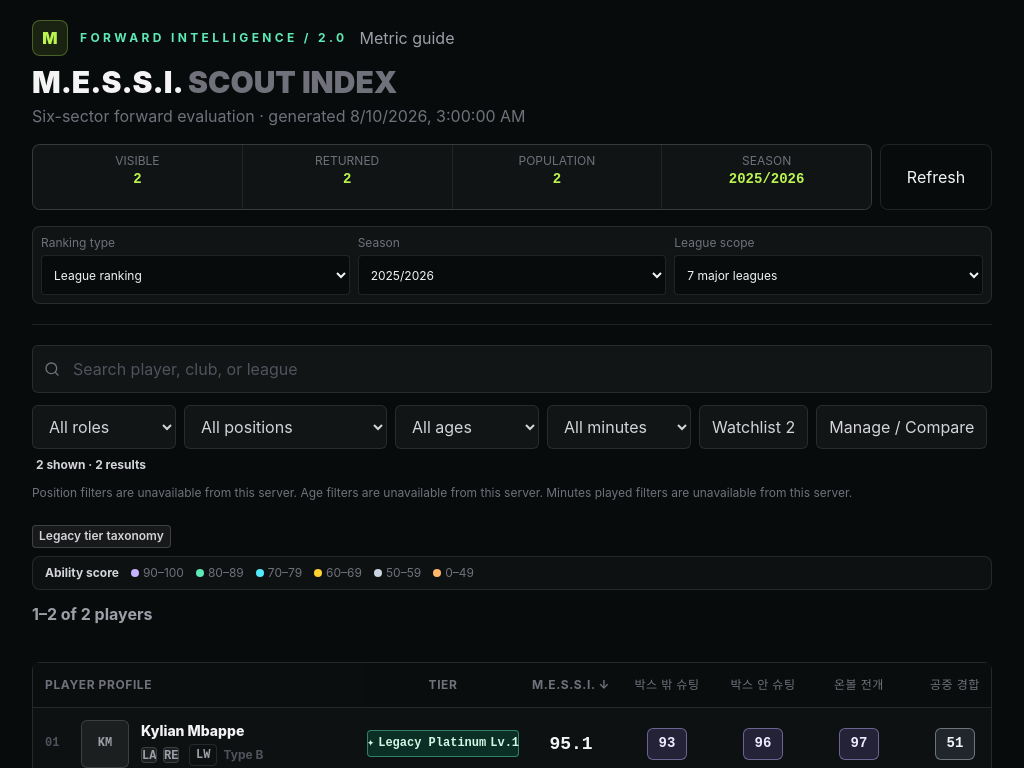
Scenario: watchlist data-quality batches › never posts a snapshot or legacy-partial row before it has an exact current profile
The image size is (1024, 768).
Click the button "Watchlist 2" at (754, 427), box [699,405,808,449]
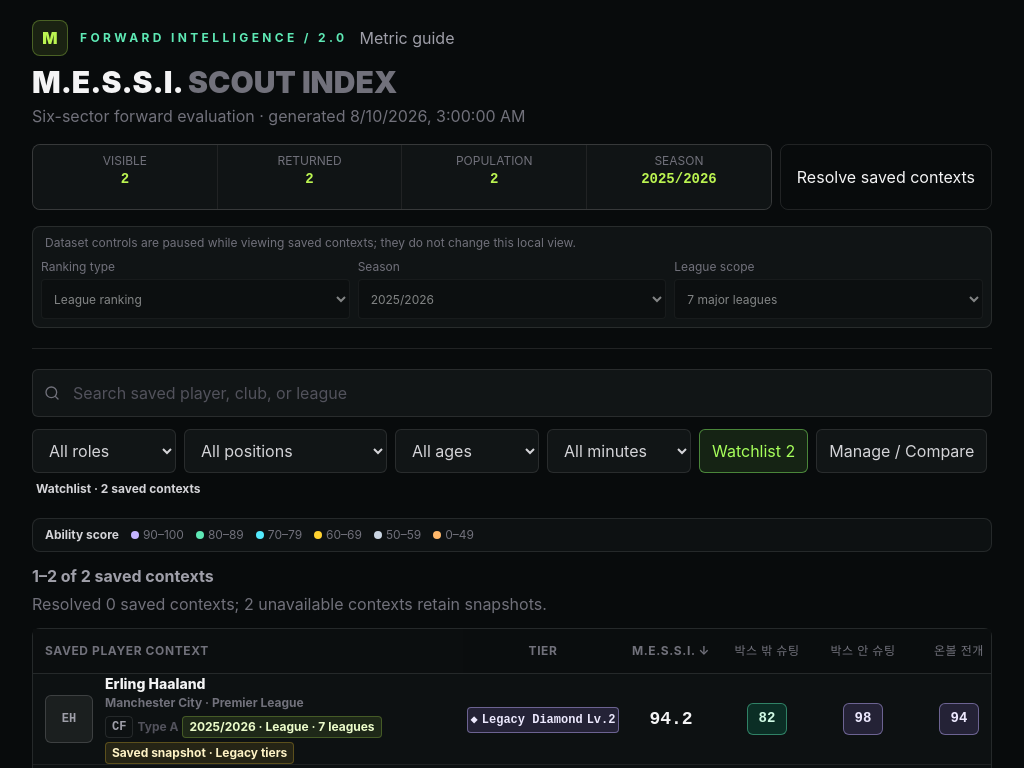
expect the message shows "snapshots": met, box [32,594,547,614]
